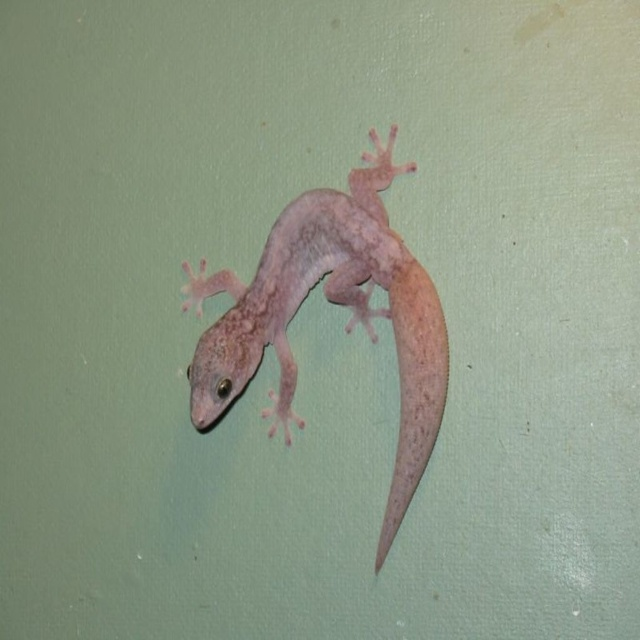Lizard: (175, 100, 459, 565)
